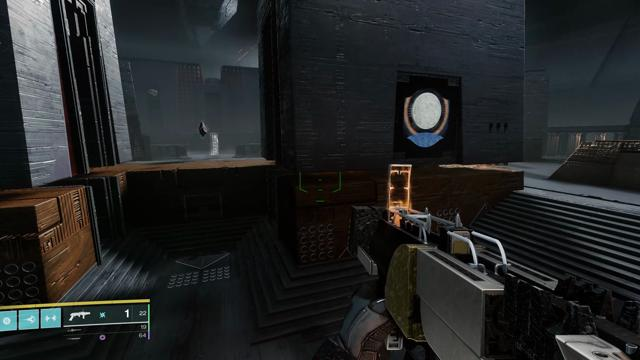traveler: (402, 87, 451, 148)
